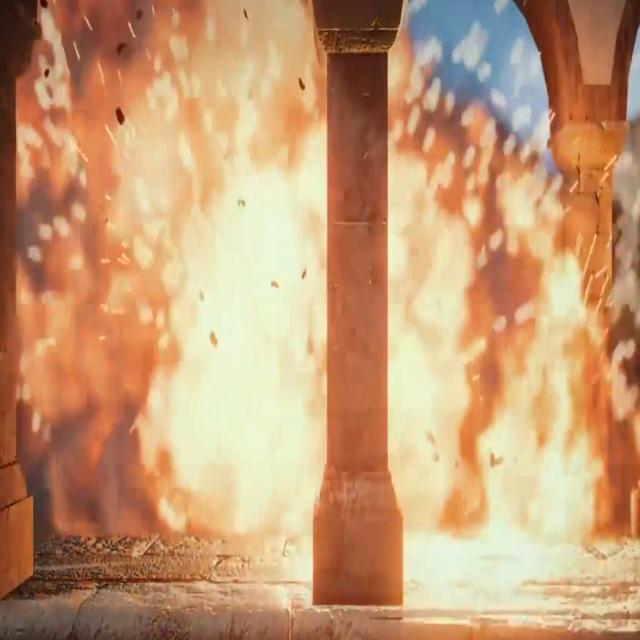fire: (19, 2, 620, 598)
